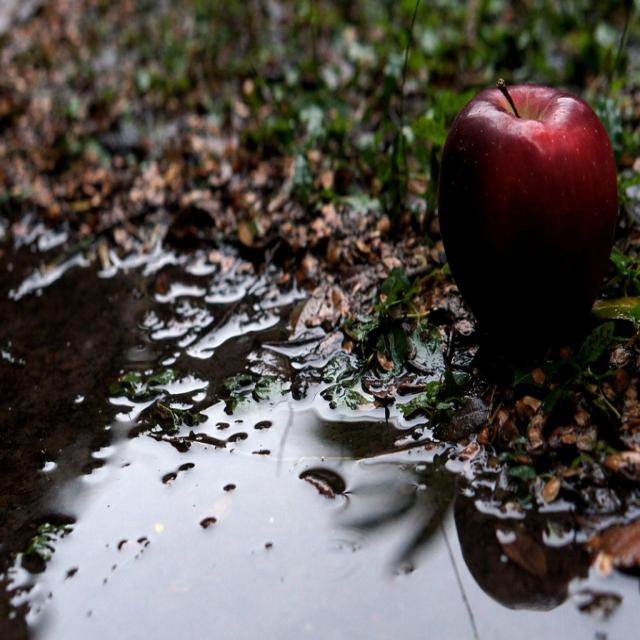Healty Apple: (442, 67, 622, 367)
